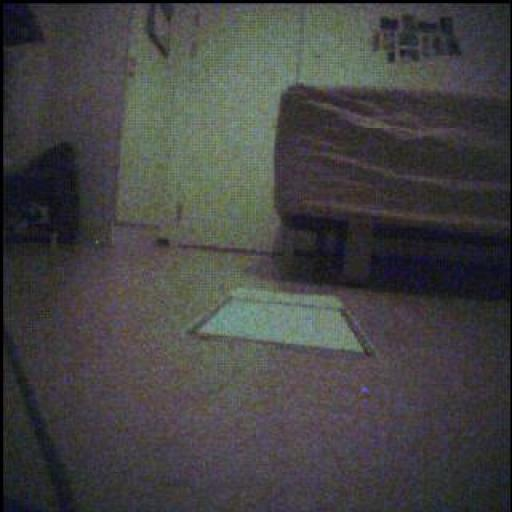pad: (188, 289, 374, 356)
